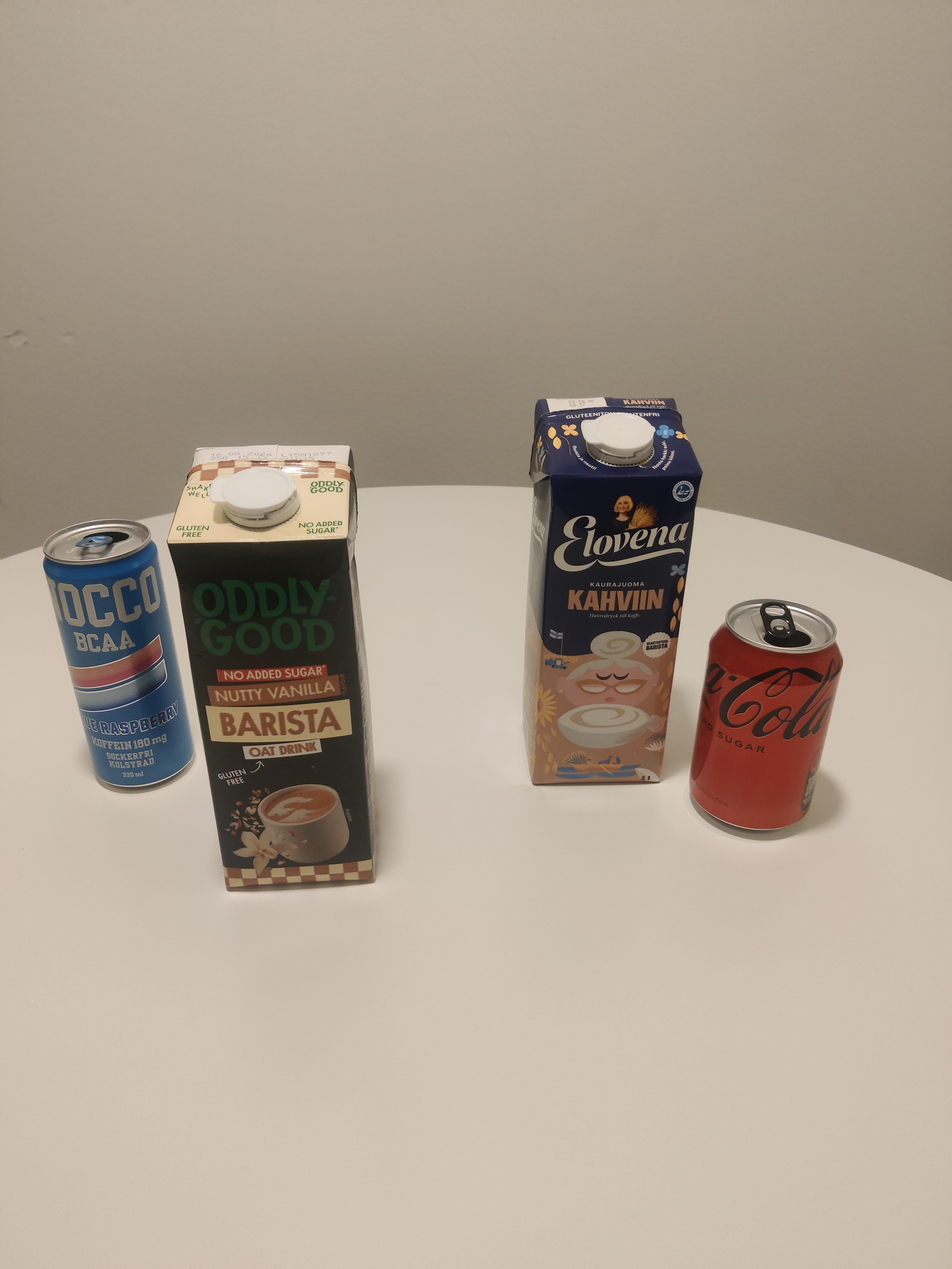Dryckeskartong: (166, 442, 403, 915), (516, 399, 711, 810)
Pantburk: (40, 520, 193, 790), (692, 598, 844, 833)
